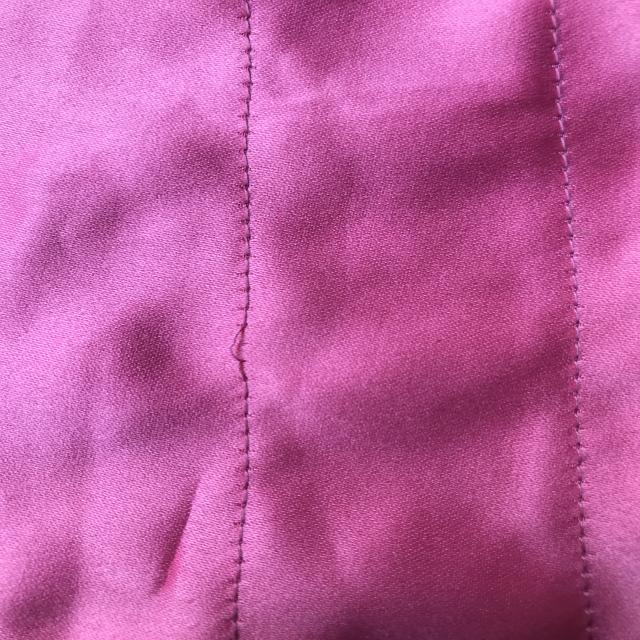skip: (219, 316, 266, 371)
